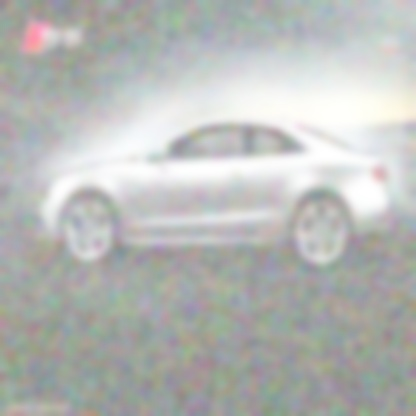Vehicle: (36, 115, 395, 271)
